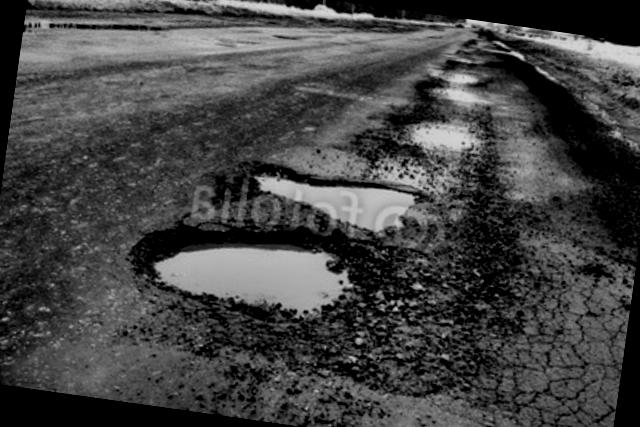Pothole: (102, 202, 384, 344), (219, 157, 446, 250), (380, 105, 501, 172), (384, 75, 486, 129), (407, 59, 484, 94)
